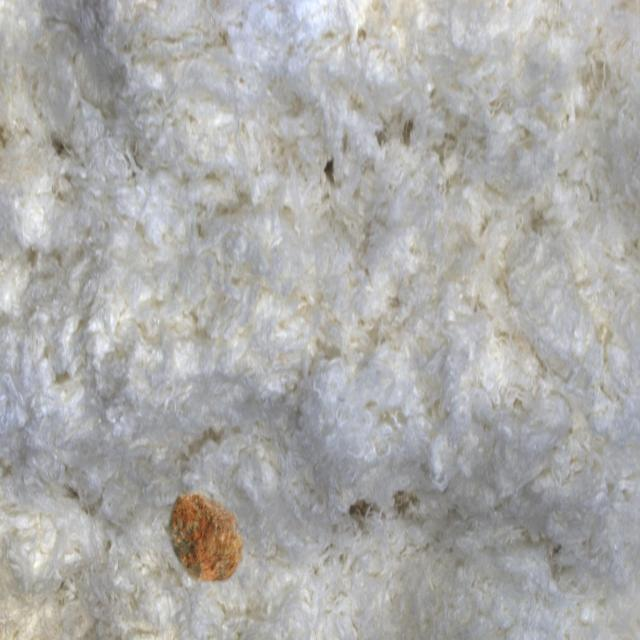dust: (136, 451, 287, 628)
